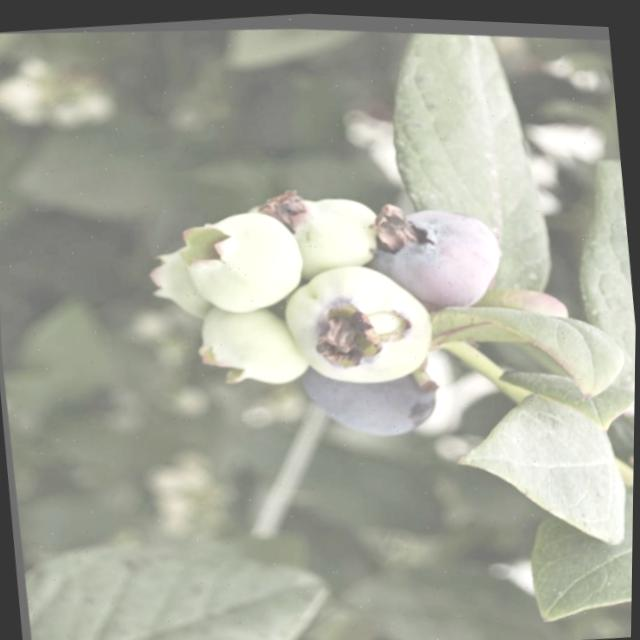RipeBlueBerry: (297, 342, 447, 445)
Semi-RipeBlueBerry: (366, 183, 513, 313)
UnripeBlueBerry: (273, 239, 446, 395), (170, 191, 314, 326)
